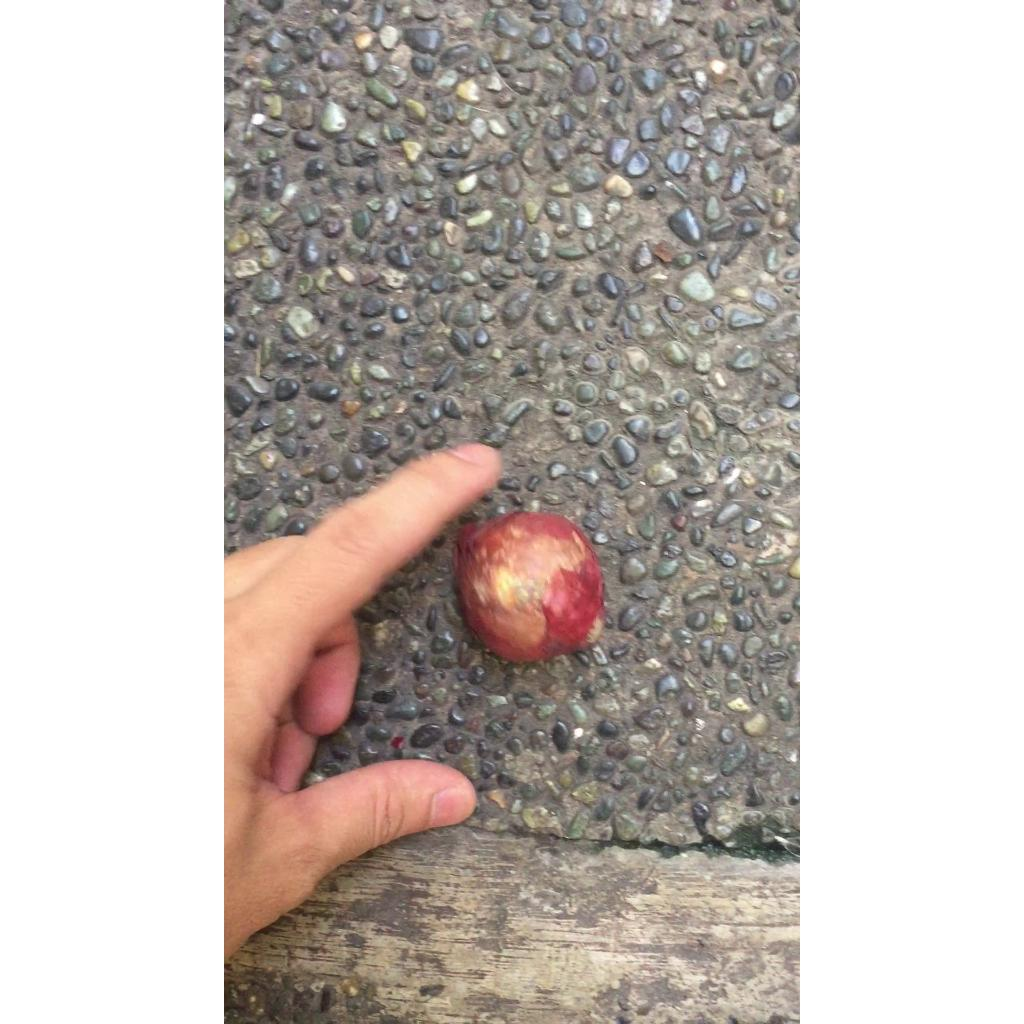Onion: (454, 512, 603, 662)
